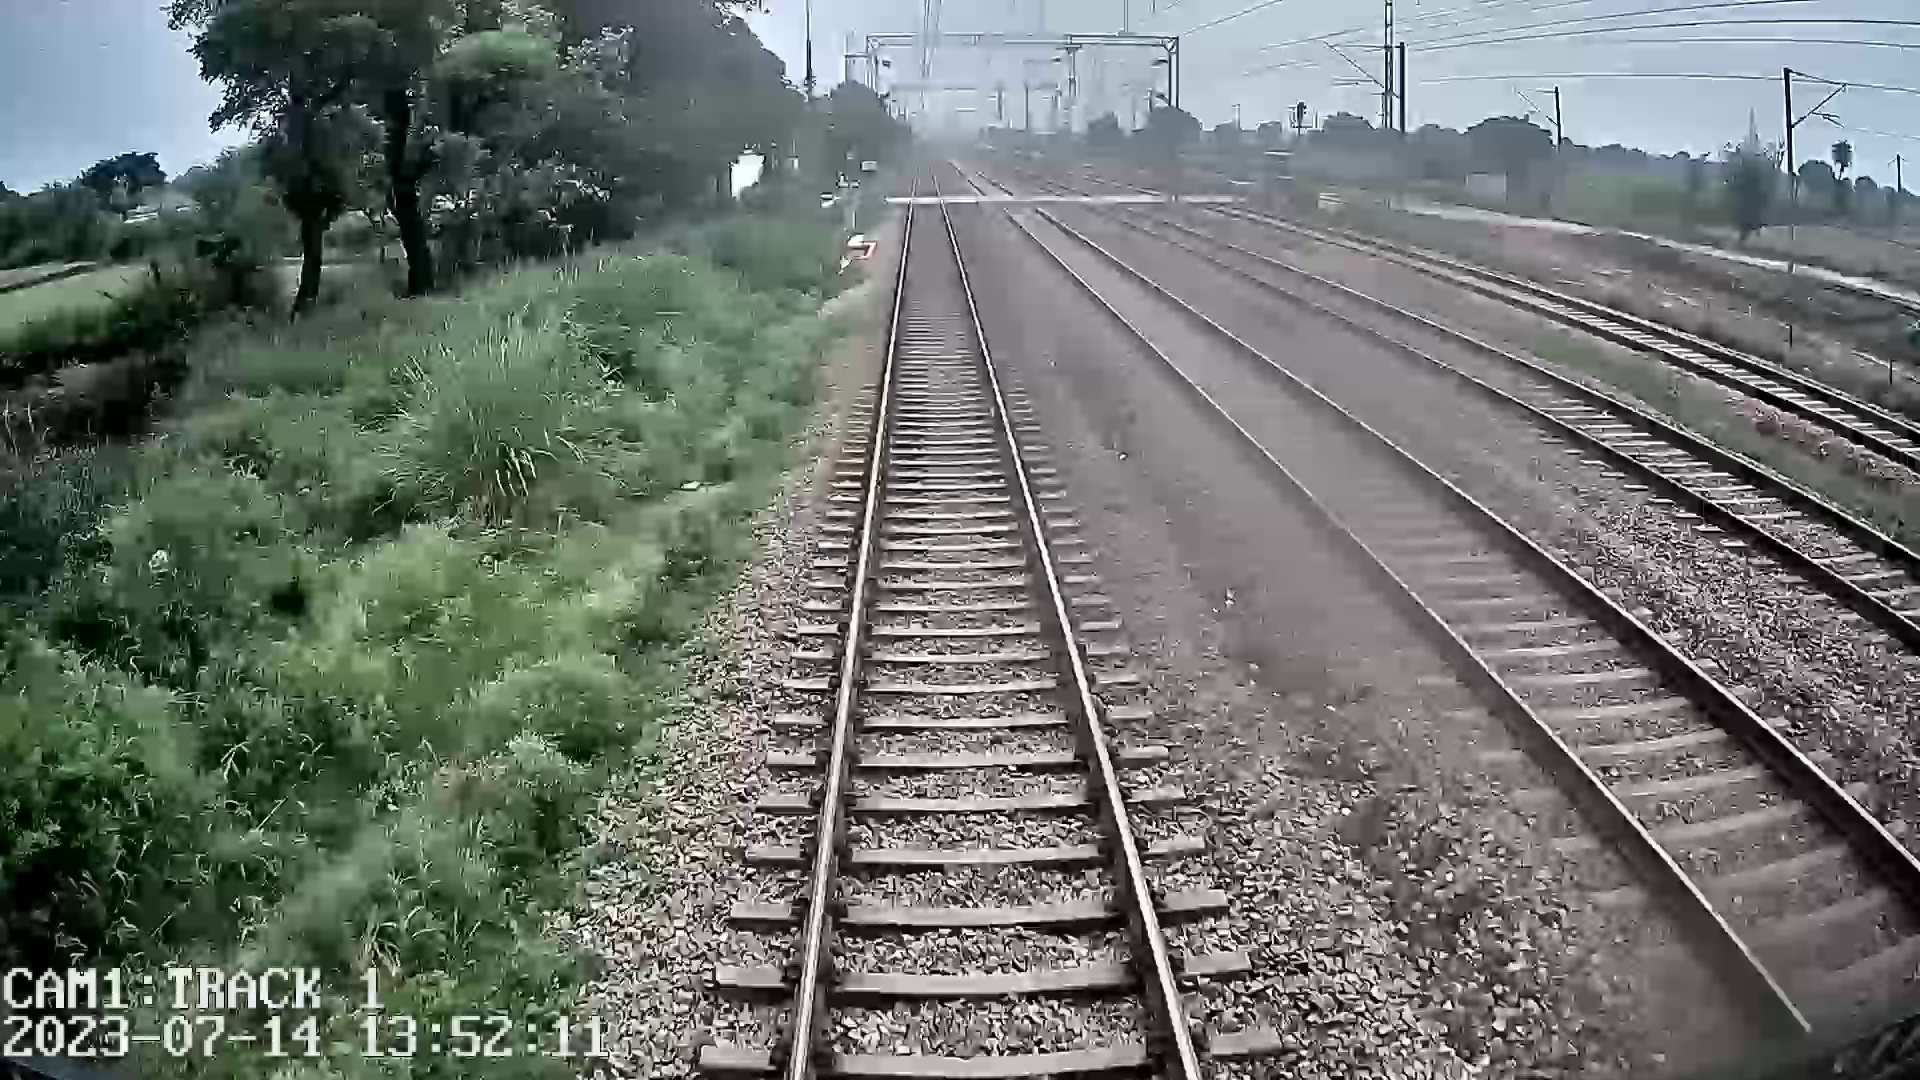track1: (798, 201, 1191, 1066)
track2: (1001, 206, 1916, 985)
track3: (1093, 204, 1912, 621)
track4: (1216, 206, 1913, 455)
